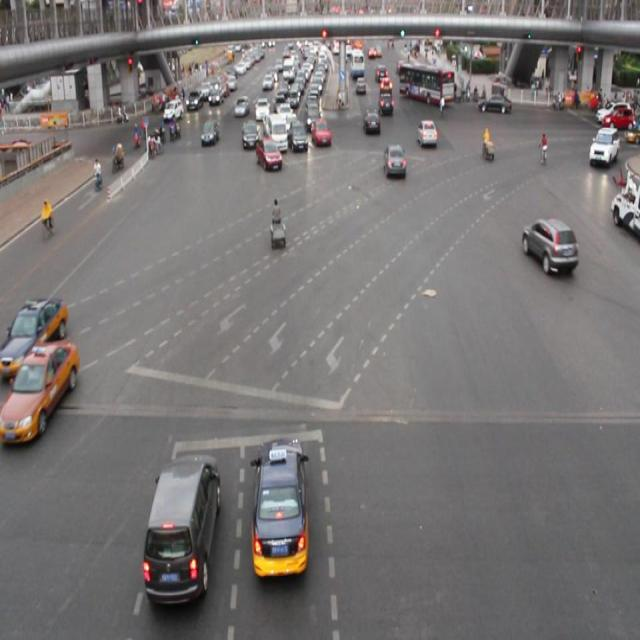car: (250, 432, 309, 586), (1, 340, 78, 443), (1, 296, 66, 374), (520, 215, 576, 274), (256, 133, 282, 173), (382, 142, 407, 182), (288, 119, 308, 155), (311, 115, 331, 150), (416, 116, 437, 148), (200, 116, 220, 148), (240, 120, 258, 152), (362, 108, 379, 139)
truck: (146, 454, 219, 606), (268, 113, 287, 151)
